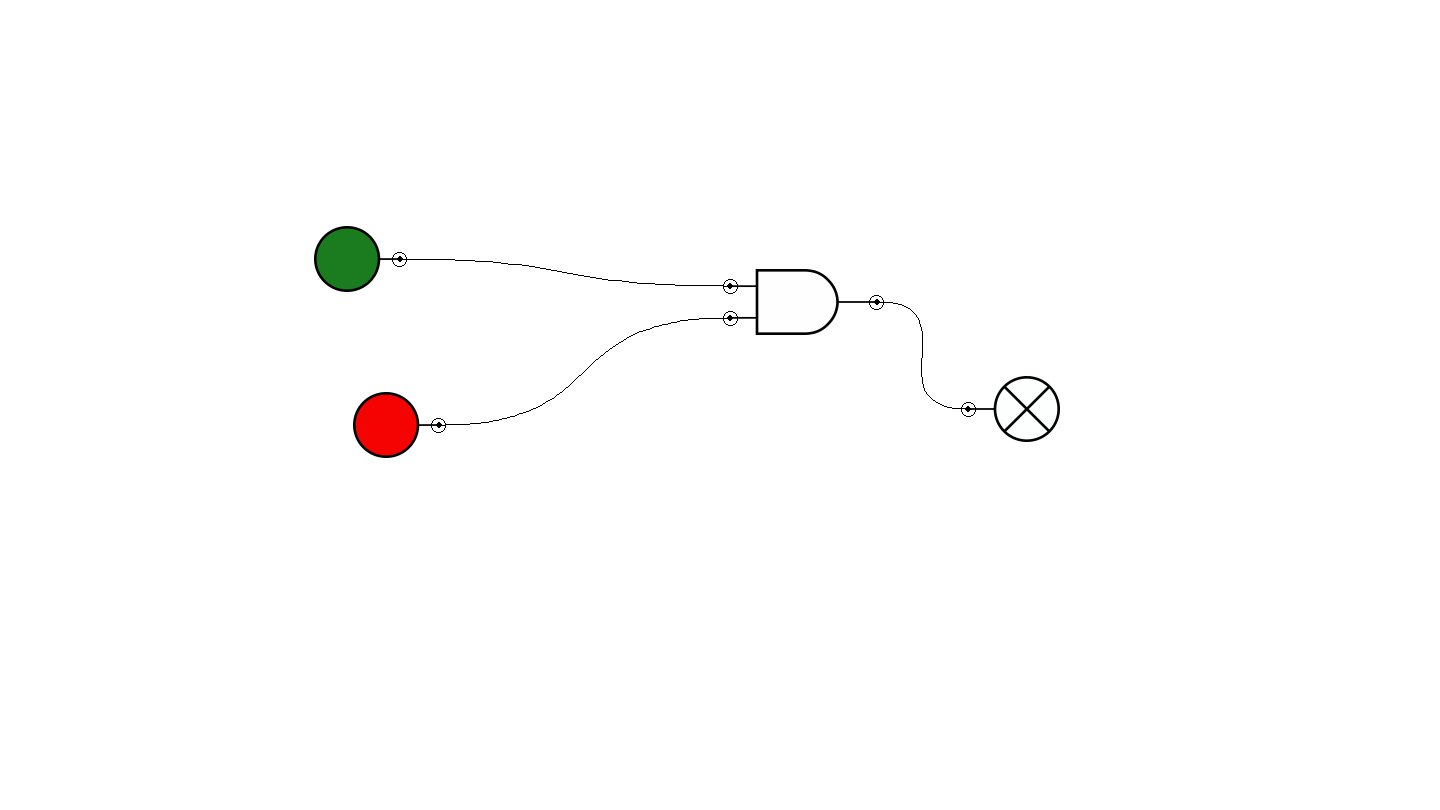and: (723, 269, 884, 335)
bulb: (961, 376, 1060, 442)
switch_False: (353, 392, 446, 458)
switch_True: (314, 226, 407, 292)
